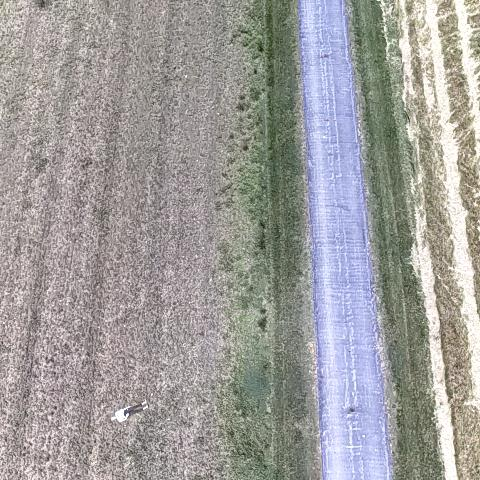person: (109, 397, 149, 425)
